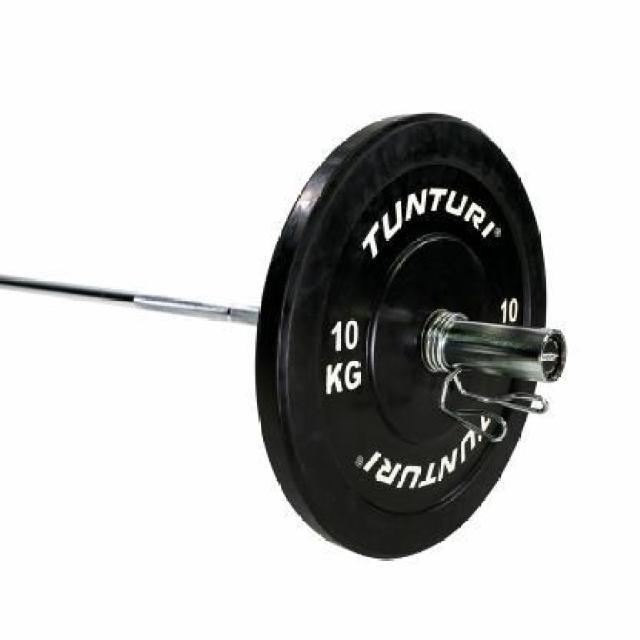barbell: (240, 100, 576, 571)
